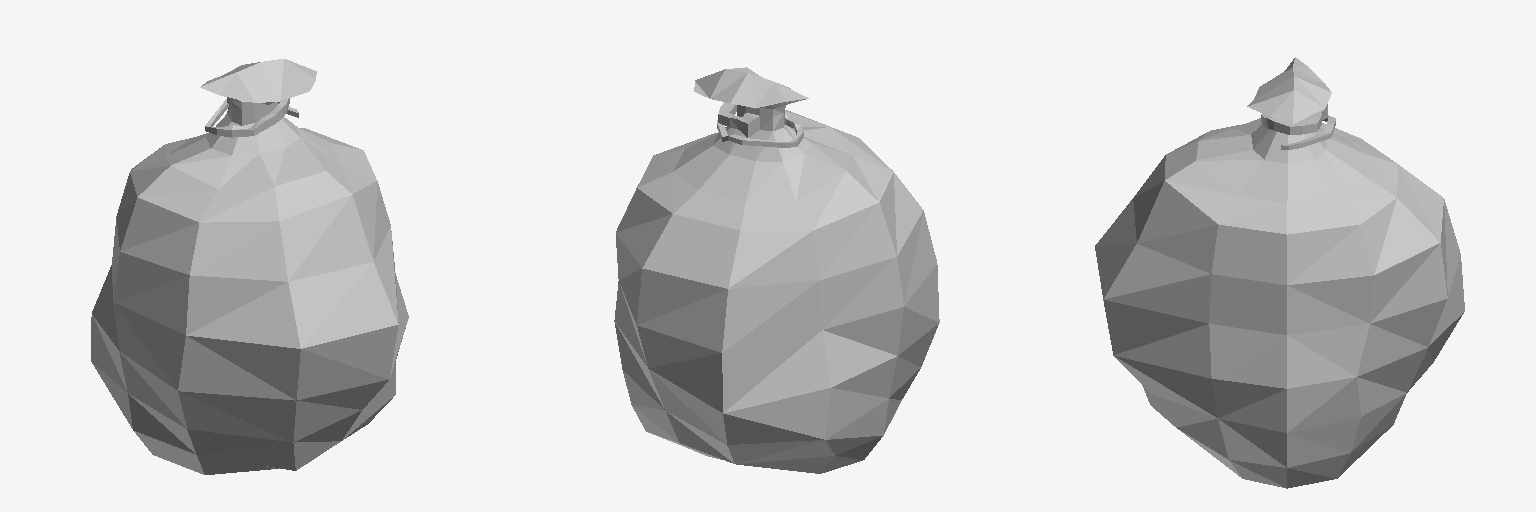
File: ITEM_PocketSand.obj
3 renders of one model, left to right at view 1: azimuth 30°, elevation 25°; view 2: azimuth 150°, elevation 25°; view 3: azimuth 270°, elevation 25°, orthographic.
Visible parts, largest first — view 1: ITEM_PocketSand:Mesh ITEM_PocketSand:polySurface1; view 2: ITEM_PocketSand:Mesh ITEM_PocketSand:polySurface1; view 3: ITEM_PocketSand:Mesh ITEM_PocketSand:polySurface1.
Part boxes in pixels (x1,y1,x2,y2): ITEM_PocketSand:Mesh ITEM_PocketSand:polySurface1: (91, 59, 408, 474); ITEM_PocketSand:Mesh ITEM_PocketSand:polySurface1: (614, 67, 939, 473); ITEM_PocketSand:Mesh ITEM_PocketSand:polySurface1: (1095, 57, 1464, 488).
Bounding box in the file's own units: 0.2568 × 0.3268 × 0.2952.